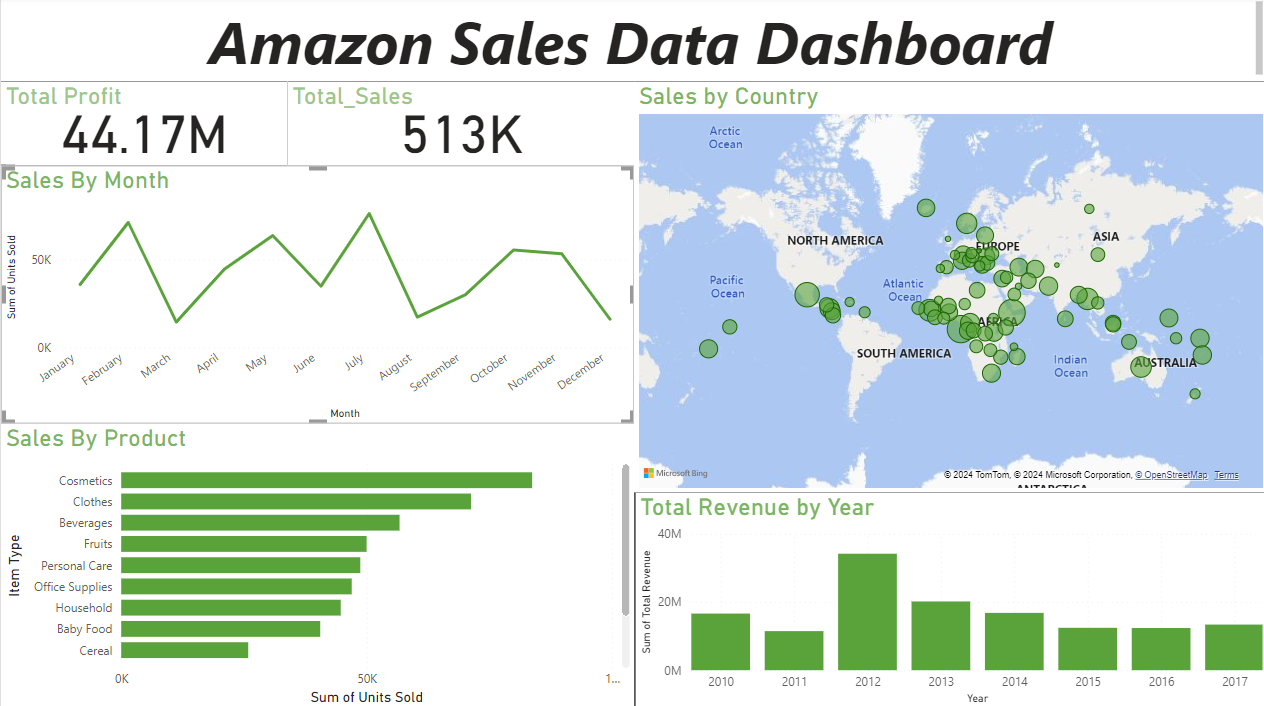

The dashboard page shown, as its layout file describes it:
{"tool":"powerbi","page":{"name":"Amazon Sales Data Dashboard","canvas":[1280,720],"ordinal":0},"visuals":[{"type":"card","title":"Total Profit","fields":{"Values":["Sum(Amazon Sales data.Total Profit)"]},"box":[0,86.3,209,84.8],"z":0},{"type":"card","title":"Number_of_orders","fields":{"Values":["CountNonNull(Amazon Sales data.Order ID)"]},"box":[209,86.3,218,83.3],"z":1000},{"type":"lineChart","title":"Sales By Month","fields":{"Category":["Amazon Sales data.Order Date.Variation.Date Hierarchy.Month"],"Y":["Sum(Amazon Sales data.Units Sold)"]},"box":[0,171.1,639,260.4],"z":2000},{"type":"clusteredBarChart","title":"Sales By Product","fields":{"Y":["Sum(Amazon Sales data.Units Sold)"],"Category":["Amazon Sales data.Item Type"]},"box":[0,430.9,639.5,288.2],"z":3000},{"type":"card","title":"Total_Sales","fields":{"Values":["Sum(Amazon Sales data.Units Sold)"]},"box":[428.5,86.3,212,84.8],"z":4000},{"type":"pieChart","title":"Sales by Country","fields":{"Y":["Sum(Amazon Sales data.Units Sold)"],"Category":["Amazon Sales data.Country"]},"box":[639,86.3,640.5,357.4],"z":5000},{"type":"columnChart","title":"Total Revenue by Year","fields":{"Y":["Sum(Amazon Sales data.Total Revenue)"],"Category":["Amazon Sales data.Ship Date.Variation.Date Hierarchy.Year"]},"box":[640.5,431.5,639,287.7],"z":6000},{"type":"textbox","box":[0,0,1279.5,86.3],"z":6001}]}

Visuals, with their boxes in screenshot pixels (x1, y1, x2, y2), scaled from the page's 1280x720 canvas onto the 1264x706 screenshot:
"Total Profit" card: {"left": 0, "top": 85, "right": 206, "bottom": 168}
"Number_of_orders" card: {"left": 206, "top": 85, "right": 422, "bottom": 166}
"Sales By Month" lineChart: {"left": 0, "top": 168, "right": 631, "bottom": 423}
"Sales By Product" clusteredBarChart: {"left": 0, "top": 423, "right": 632, "bottom": 705}
"Total_Sales" card: {"left": 423, "top": 85, "right": 632, "bottom": 168}
"Sales by Country" pieChart: {"left": 631, "top": 85, "right": 1263, "bottom": 435}
"Total Revenue by Year" columnChart: {"left": 632, "top": 423, "right": 1263, "bottom": 705}
textbox: {"left": 0, "top": 0, "right": 1263, "bottom": 85}
